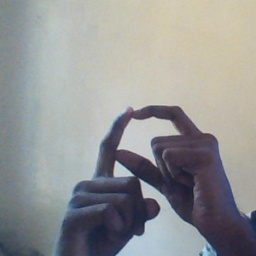D: (84, 101, 212, 217)
